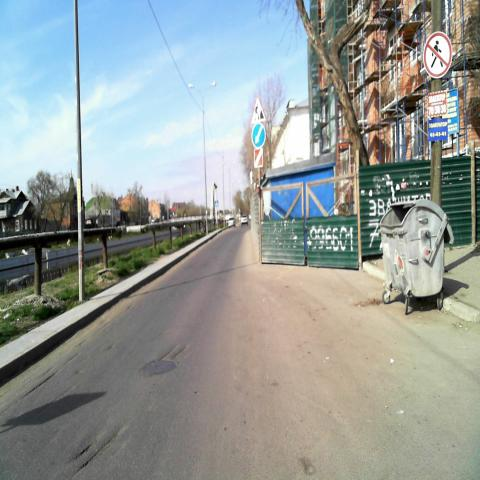1_25: (250, 96, 266, 122)
3_10: (421, 30, 453, 78)
